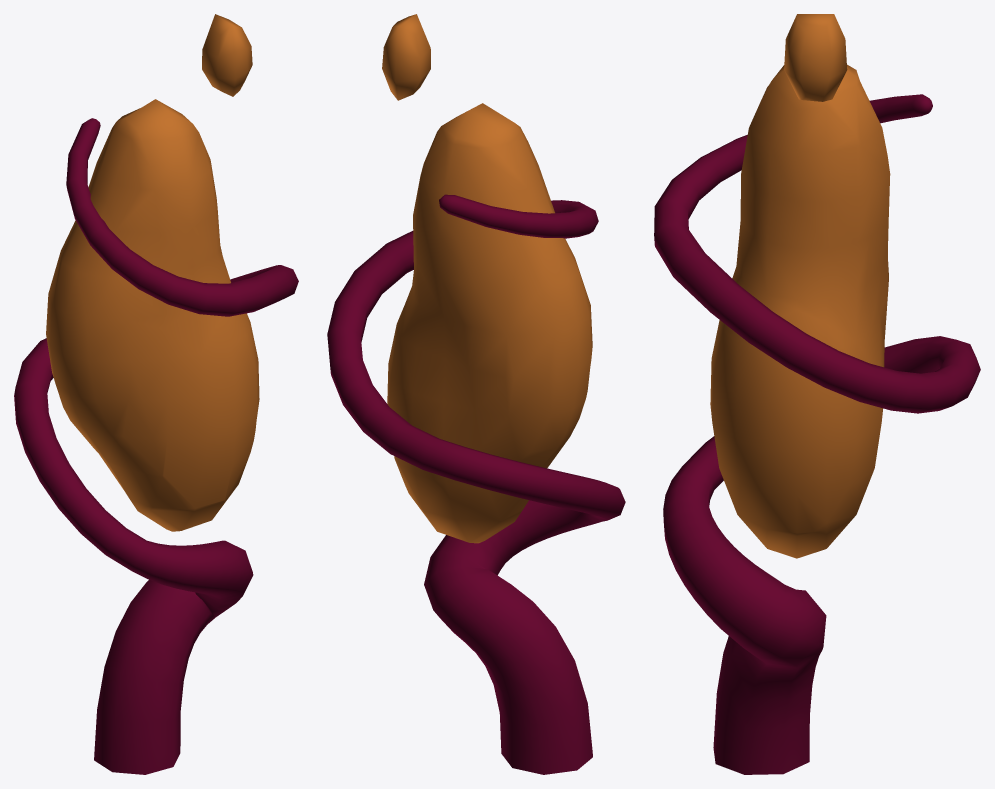
File: Tree Lava 1.glb
3 renders of one model, left to right at view 1: azimuth 30°, elevation 25°; view 2: azimuth 150°, elevation 25°; view 3: azimuth 270°, elevation 25°, orthographic. The views are drawn at different scales.
Parts seen in each view (by area): view 1: Tree_Lava_1; view 2: Tree_Lava_1; view 3: Tree_Lava_1.
Part boxes in pixels (<box>): Tree_Lava_1: <box>14,14,298,774</box>; Tree_Lava_1: <box>327,14,625,774</box>; Tree_Lava_1: <box>654,14,980,774</box>.
Bounding box in the file's own units: 1.2 × 3.24 × 1.2.
1 material, 1 textured.
